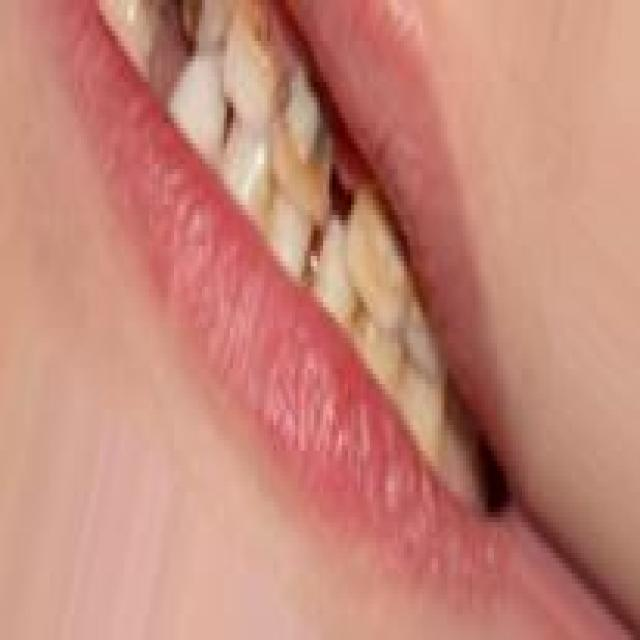caries: (341, 177, 405, 324), (276, 43, 326, 227), (230, 0, 283, 125), (402, 282, 439, 380)
